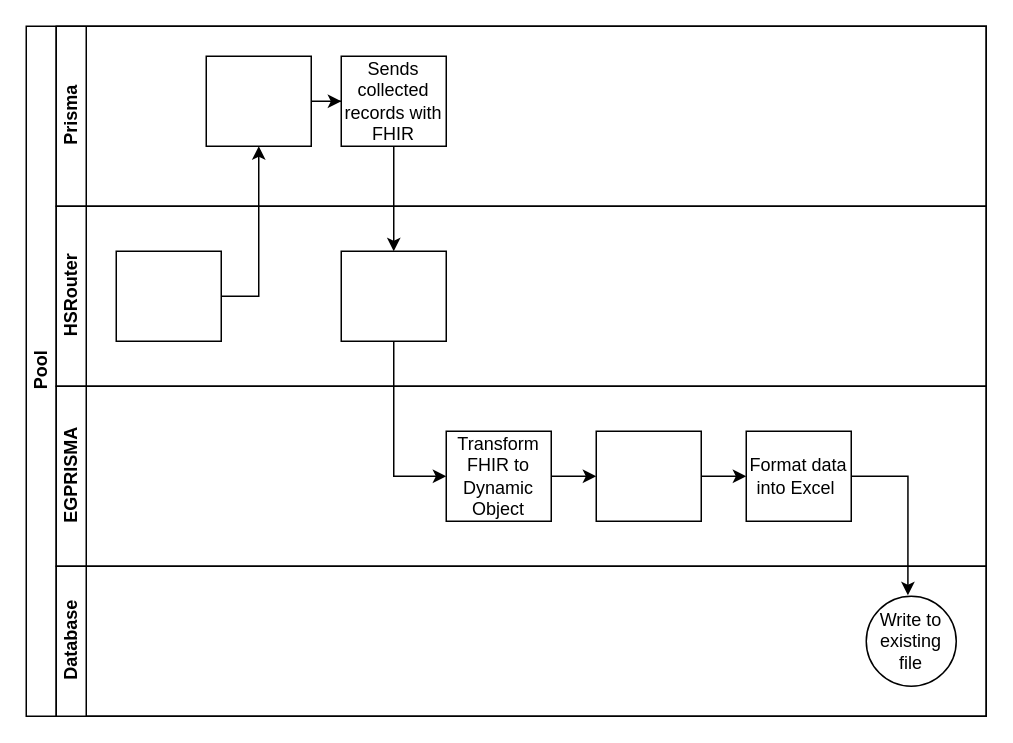
Image size: 1013x743. Some labels were removed from this diagram. The centre of each missing label's shape, as x and y in pixels:
"Make request for Billing Data" belongs at pixel 168 295.
"Receive FHIR and send to EG" belongs at pixel 393 295.
"Receive request, starts process" belongs at pixel 258 100.
"Transform and normalize data" belongs at pixel 648 475.
